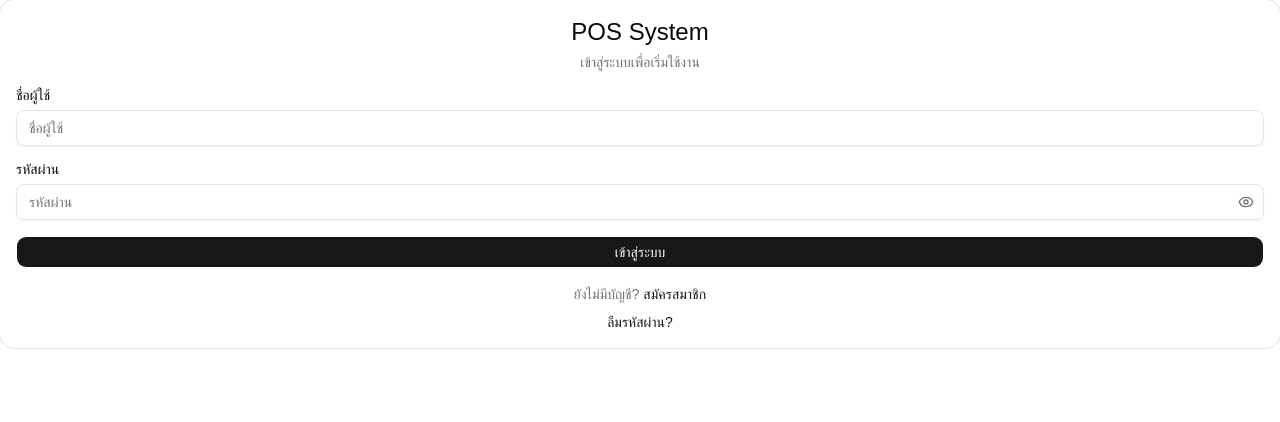
Scenario: LoginPage › shows validation errors for empty submit
The image size is (1280, 422).
Click the button "เข้าสู่ระบบ": [640, 252] box [16,236,1264,268]
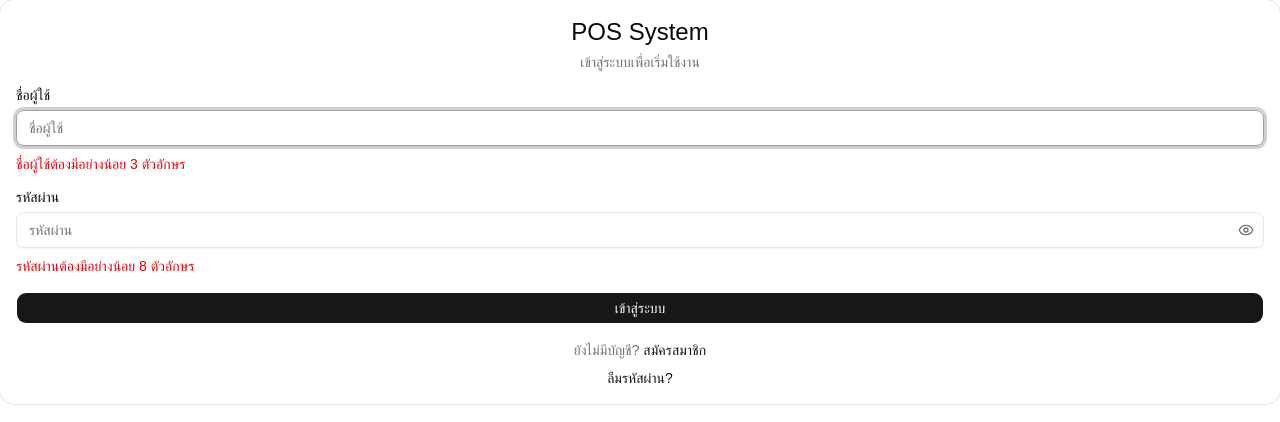
Expected: the text "ชื่อผู้ใช้ต้องมีอย่างน้อย 3 ตัวอักษร" is shown, [16,156,186,172]
Expected: the text "รหัสผ่านต้องมีอย่างน้อย 8 ตัวอักษร" is shown, [16,258,194,274]
